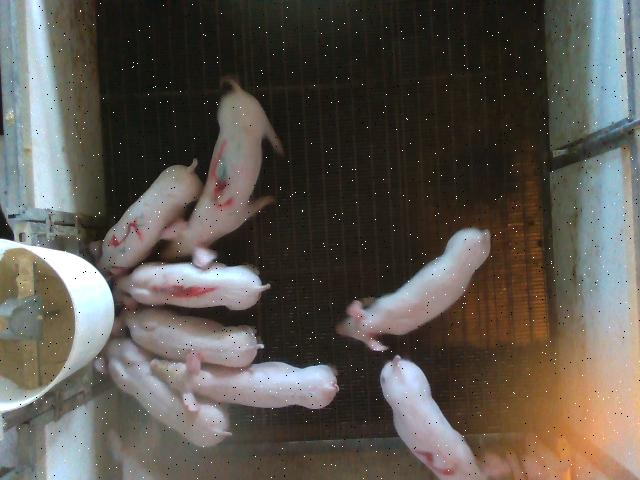pig-1: (115, 262, 270, 309)
pig-2: (380, 356, 485, 479)
pig-3: (161, 76, 284, 268)
pig-5: (90, 159, 202, 273)
